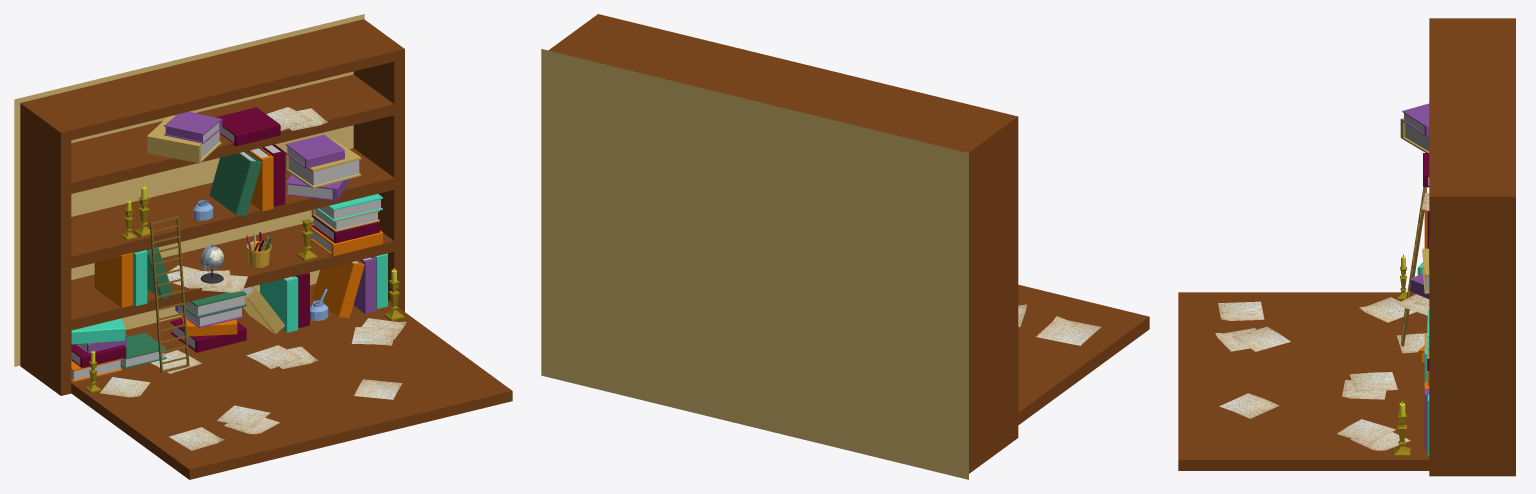
The model's file is Prop_Biblioteca_Boblioteca1.fbx.
The picture shows the model from 3 angles, left to right: view 1: azimuth 30°, elevation 25°; view 2: azimuth 150°, elevation 25°; view 3: azimuth 270°, elevation 25°; orthographic projection. The views are drawn at different scales.
Visible parts, largest first — view 1: Vela; view 2: Vela; view 3: Vela.
Part boxes in pixels (x1,y1,x2,y2): Vela: (14,14,512,479); Vela: (541,14,1149,479); Vela: (1178,18,1515,476).
Bounding box in the file's own units: 3463 × 2616 × 2765.
